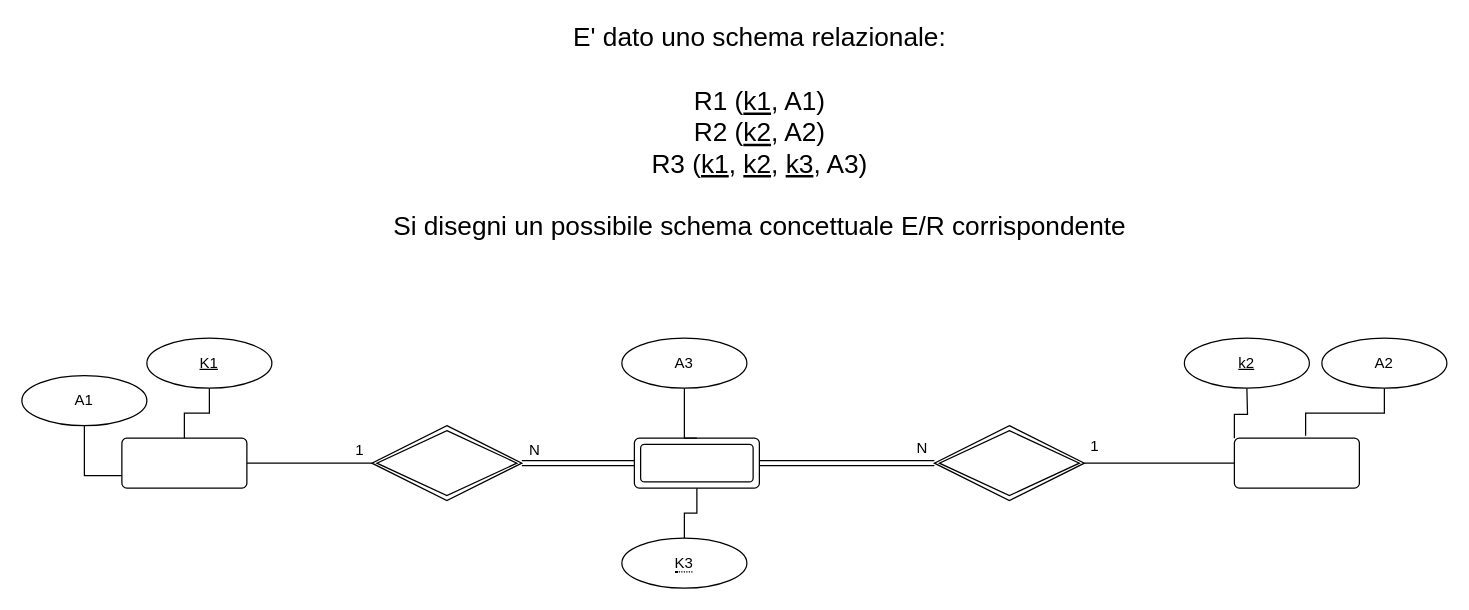
Some shapes in this 1469 by 610 pixel diagram are drawn without their labels. The centre of each missing label's shape, as x and y in pixels:
R1: the point at 184,462
R2: the point at 1296,462
R3: the point at 696,462
